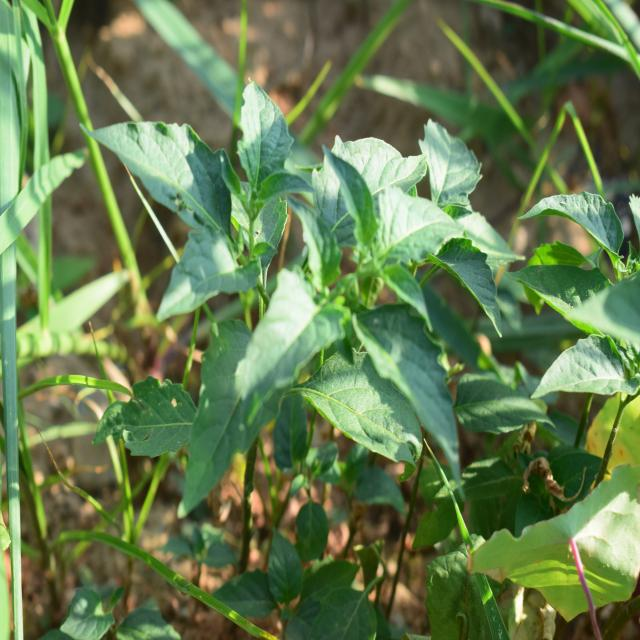Black_nightshade: (107, 85, 455, 475)
